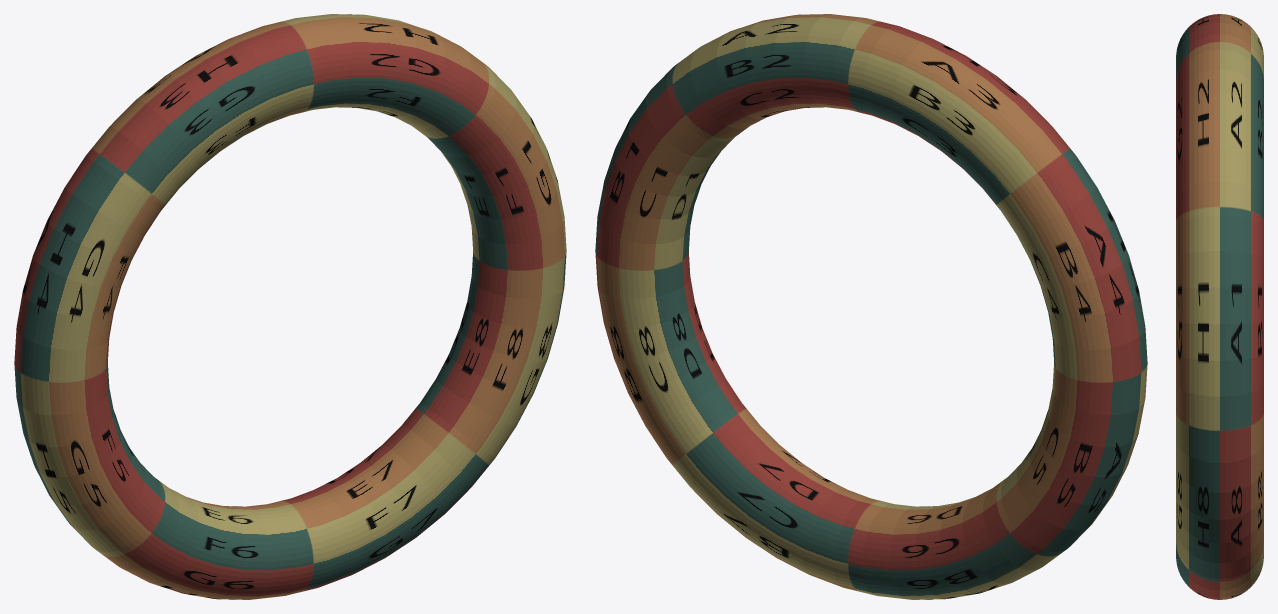
Rendered from texture_torus_R2_r0.glb.
The picture shows the model from 3 angles, left to right: view 1: azimuth 30°, elevation 25°; view 2: azimuth 150°, elevation 25°; view 3: azimuth 270°, elevation 25°; orthographic projection. The views are drawn at different scales.
Parts seen in each view (by area): view 1: world; view 2: world; view 3: world.
Part boxes in pixels (x1=…): world: x1=14, y1=14, x2=566, y2=599; world: x1=595, y1=14, x2=1147, y2=599; world: x1=1176, y1=14, x2=1263, y2=599.
Size of the model in its own units: 13.33 by 13.31 by 2.
Materials: 1 (1 with a texture image).
